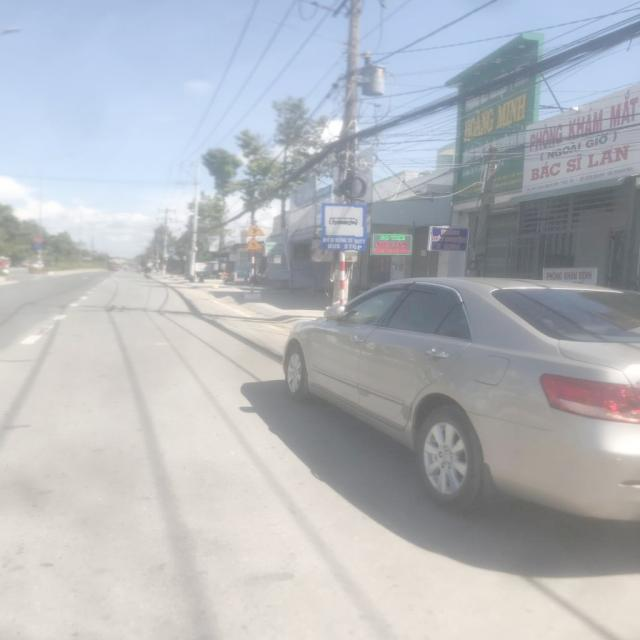chu_y_nguoi_di_bo_cat_ngang: (242, 238, 264, 252)
giao_nhau_voi_duong_khong_uu_tien: (243, 220, 265, 238)
khac: (320, 203, 367, 251)
